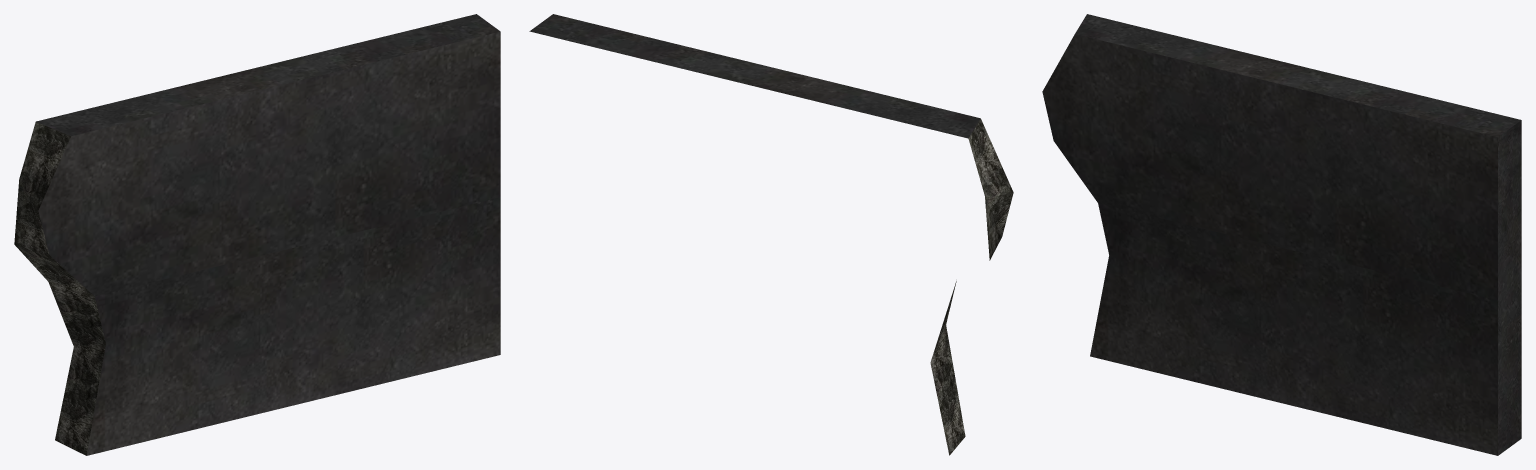
3 renders of one model, left to right at view 1: azimuth 30°, elevation 25°; view 2: azimuth 150°, elevation 25°; view 3: azimuth 330°, elevation 25°, orthographic.
Parts seen in each view (by area): view 1: model_Object18; view 2: model_Object18; view 3: model_Object18.
Part boxes in pixels (bbox=[...]): model_Object18: bbox=[14, 14, 500, 455]; model_Object18: bbox=[529, 14, 1013, 455]; model_Object18: bbox=[1042, 14, 1521, 455].
Bounding box in the file's own units: 5.42 × 3.62 × 0.4869.
Materials: 2 (2 with a texture image).
